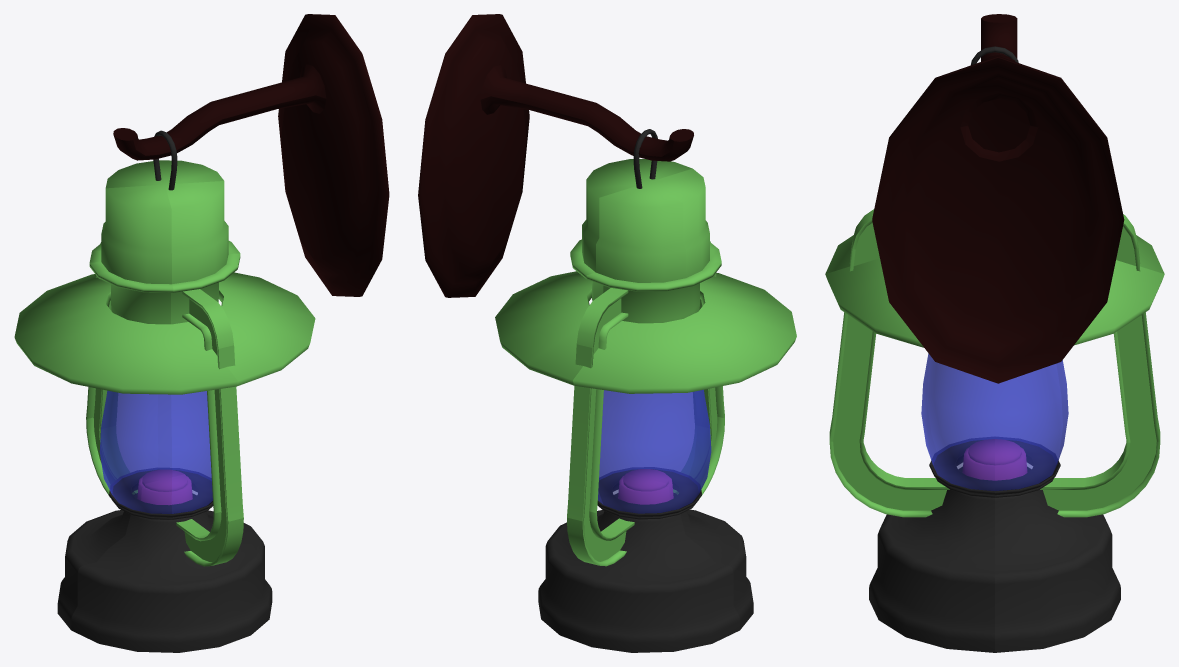
The model's file is Lamp 1.FBX.
3 views of the same model, side by side, from view 1: azimuth 30°, elevation 25°; view 2: azimuth 150°, elevation 25°; view 3: azimuth 270°, elevation 25° (orthographic). The views are drawn at different scales.
Parts seen in each view (by area): view 1: Lamp_LP; view 2: Lamp_LP; view 3: Lamp_LP.
Boxes of the visible parts, bbox=[...] form: Lamp_LP: bbox=[14, 14, 389, 652]; Lamp_LP: bbox=[418, 14, 796, 652]; Lamp_LP: bbox=[825, 14, 1164, 652].
Size of the model in its own units: 48.7 by 84.02 by 40.43.
